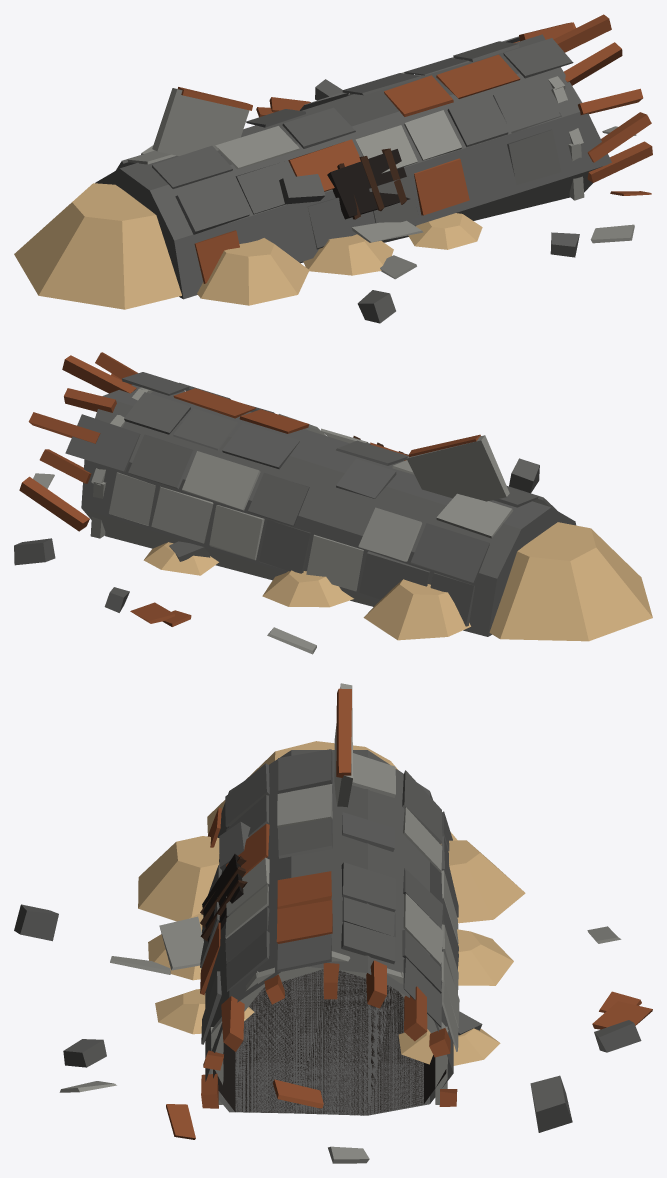
Rendered from ship_hull.glb.
3 views of the same model, one above another, from view 1: azimuth 30°, elevation 25°; view 2: azimuth 150°, elevation 25°; view 3: azimuth 270°, elevation 25° (orthographic). The views are drawn at different scales.
Visible parts, largest first — view 1: ship_hull; view 2: ship_hull; view 3: ship_hull.
Boxes of the visible parts, x1=… form: ship_hull: x1=14, y1=14, x2=652, y2=323; ship_hull: x1=14, y1=352, x2=652, y2=654; ship_hull: x1=14, y1=683, x2=652, y2=1163.
Size of the model in its own units: 37.55 by 9.74 by 26.78.
